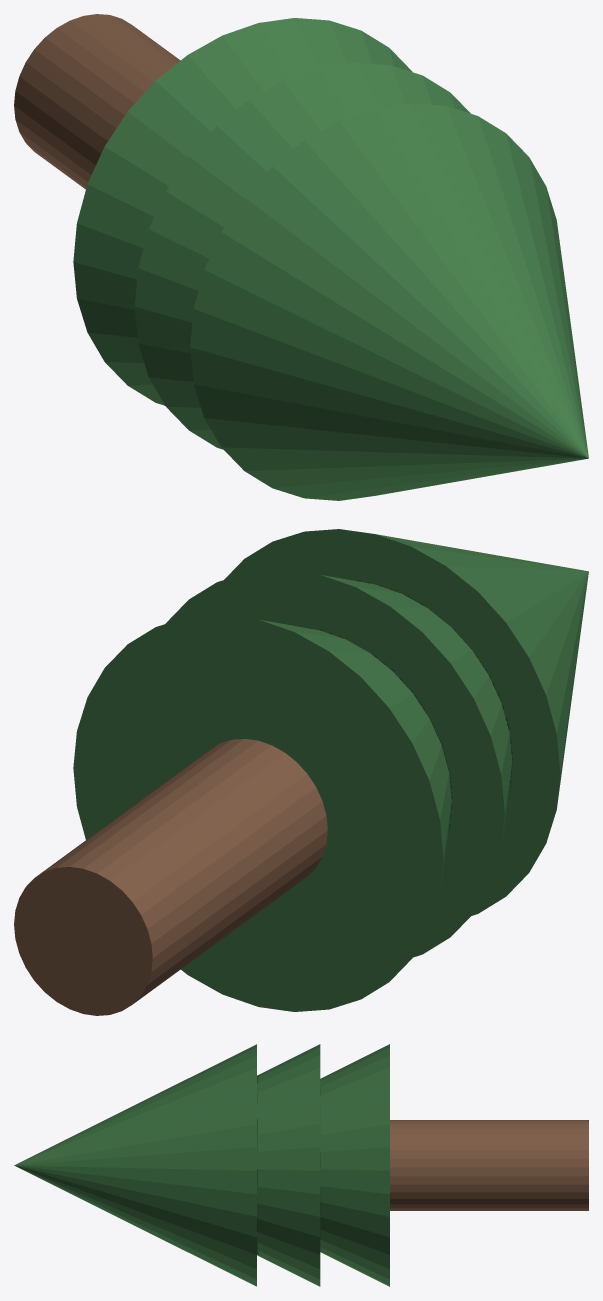
The model's file is tree.obj.
The picture shows the model from 3 angles, top to bottom: view 1: azimuth 30°, elevation 25°; view 2: azimuth 150°, elevation 25°; view 3: azimuth 270°, elevation 25°; orthographic projection. The views are drawn at different scales.
Visible parts, largest first — view 1: Cone.002; view 2: Cone.002; view 3: Cone.002.
Part boxes in pixels (x1=…): Cone.002: x1=14, y1=14, x2=588, y2=500; Cone.002: x1=14, y1=529, x2=588, y2=1015; Cone.002: x1=14, y1=1044, x2=588, y2=1286.
Size of the model in its own units: 0.8 by 0.8 by 1.89.
Materials: 1 (1 with a texture image).
